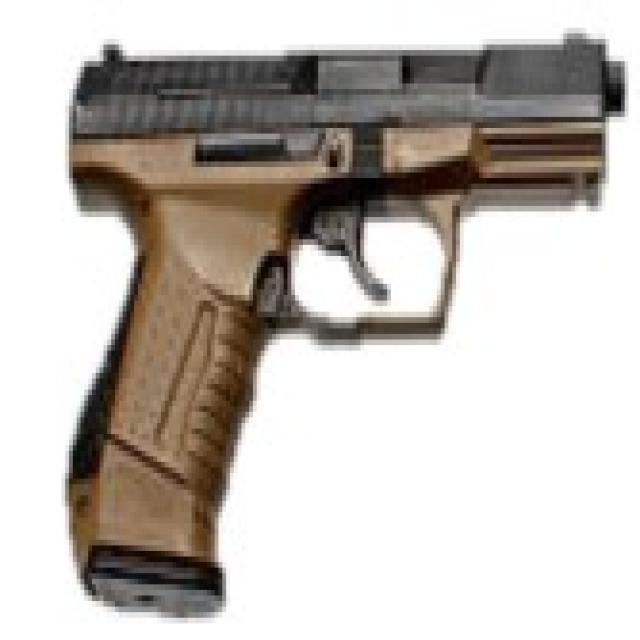pistol: (55, 18, 636, 632)
